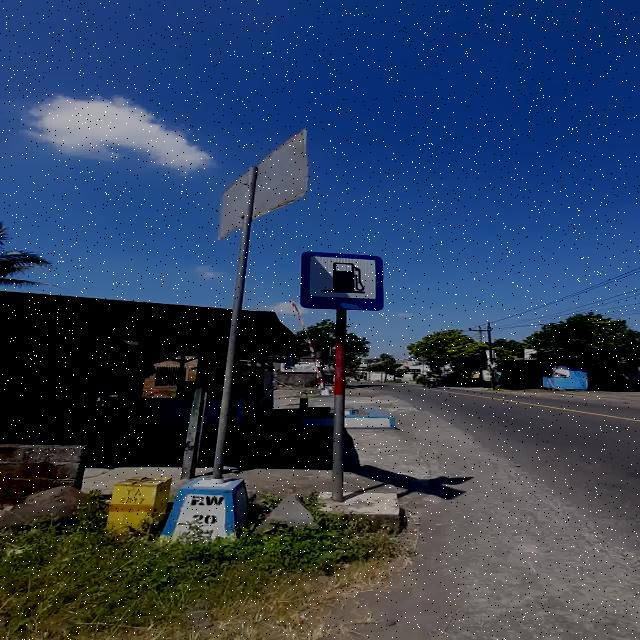Pom Bensin: (301, 251, 384, 311)
